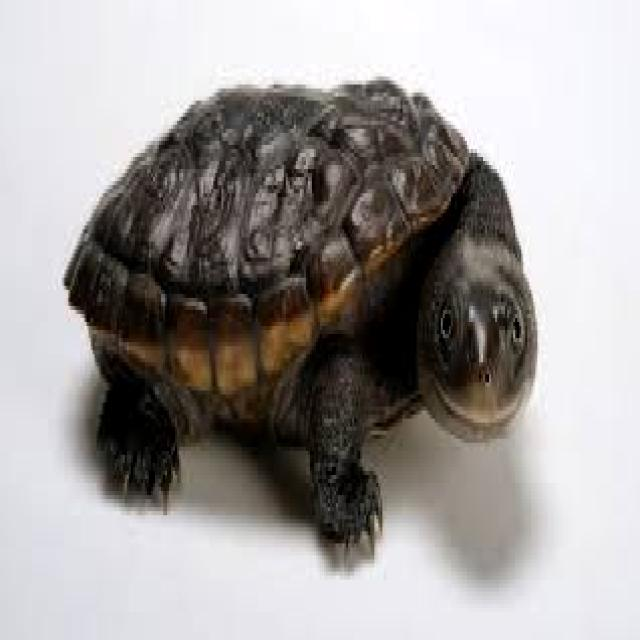Sea turtle: (59, 56, 536, 577)
